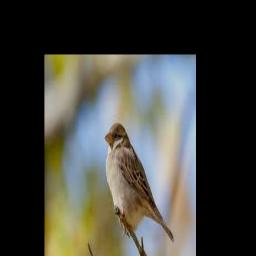Sparrow: (104, 122, 174, 244)
